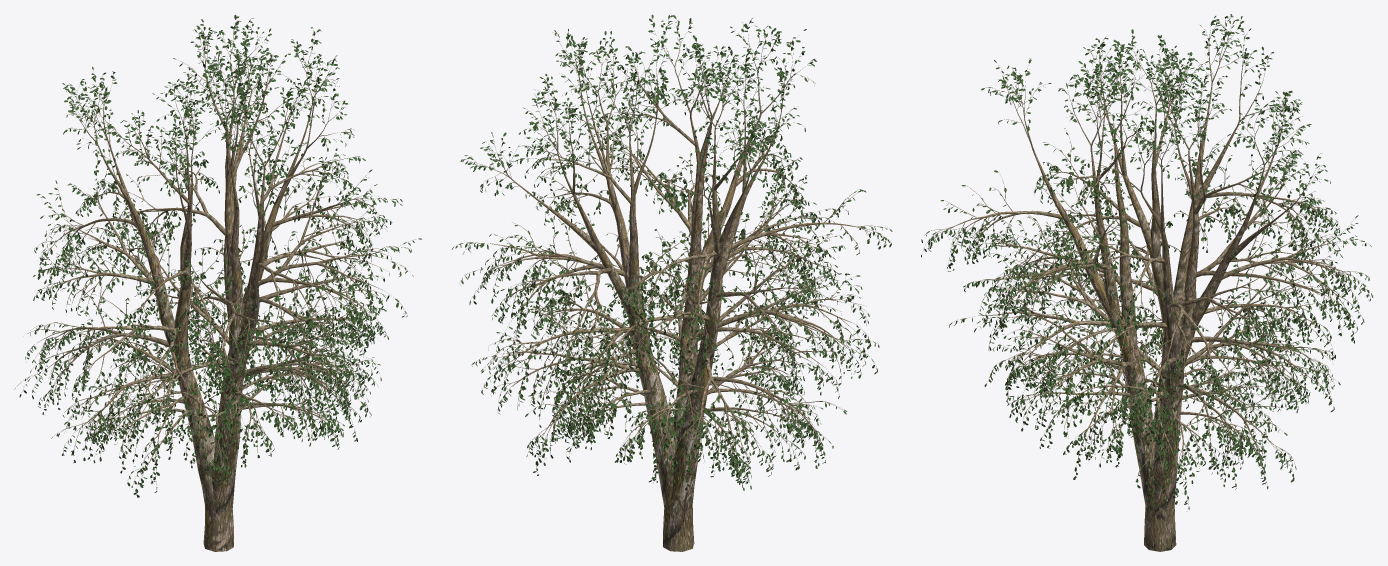
File: quejigo.glb
3 renders of one model, left to right at view 1: azimuth 30°, elevation 25°; view 2: azimuth 150°, elevation 25°; view 3: azimuth 270°, elevation 25°, orthographic. The views are drawn at different scales.
Parts seen in each view (by area): view 1: tree, leaves; view 2: tree, leaves; view 3: tree, leaves.
Part boxes in pixels (x1=…): tree: x1=17, y1=19, x2=415, y2=551; leaves: x1=14, y1=15, x2=421, y2=497; tree: x1=456, y1=18, x2=890, y2=551; leaves: x1=451, y1=14, x2=892, y2=490; tree: x1=923, y1=18, x2=1373, y2=551; leaves: x1=921, y1=14, x2=1372, y2=509.
Bounding box in the file's own units: 12.03 × 16.37 × 13.52.
Materials: 2 (2 with a texture image).
